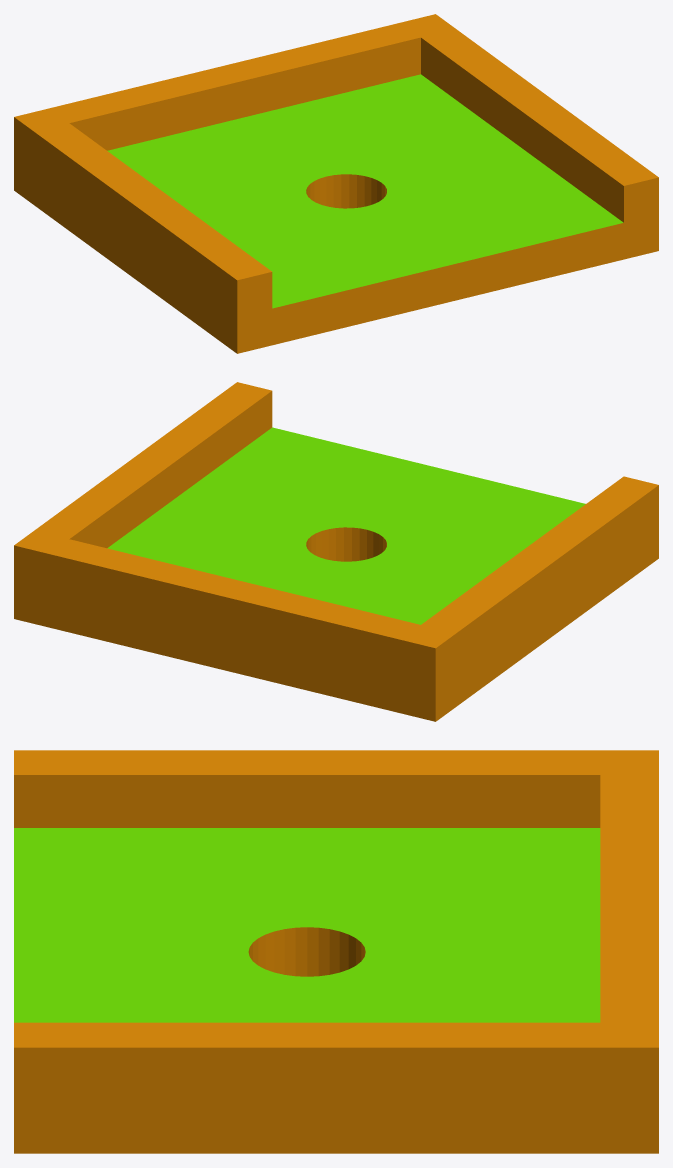
File: hole.fbx
3 views of the same model, one above another, from view 1: azimuth 30°, elevation 25°; view 2: azimuth 150°, elevation 25°; view 3: azimuth 270°, elevation 25° (orthographic). The views are drawn at different scales.
Parts seen in each view (by area): view 1: Cube; view 2: Cube; view 3: Cube.
Boxes of the visible parts, box(x1,y1,x2,y2) form: Cube: box(14, 14, 658, 353); Cube: box(14, 382, 658, 721); Cube: box(14, 750, 658, 1153).
Size of the model in its own units: 240 by 40 by 220.
